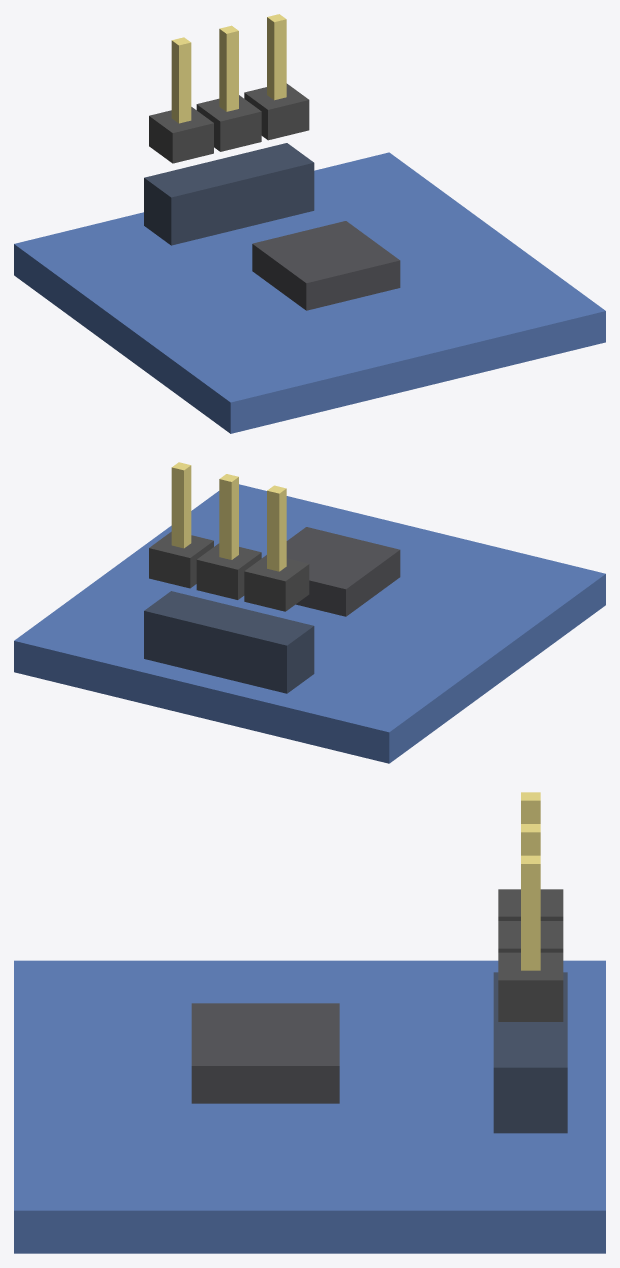
Rendered from tilt-switch.glb.
The picture shows the model from 3 angles, top to bottom: view 1: azimuth 30°, elevation 25°; view 2: azimuth 150°, elevation 25°; view 3: azimuth 270°, elevation 25°; orthographic projection. The views are drawn at different scales.
Visible parts, largest first — view 1: tilt-sensor-module_mesh; view 2: tilt-sensor-module_mesh; view 3: tilt-sensor-module_mesh.
Boxes of the visible parts, bbox=[...] form: tilt-sensor-module_mesh: bbox=[14, 14, 605, 433]; tilt-sensor-module_mesh: bbox=[14, 462, 605, 763]; tilt-sensor-module_mesh: bbox=[14, 792, 605, 1253].
Bounding box in the file's own units: 20 × 11.2 × 20.
